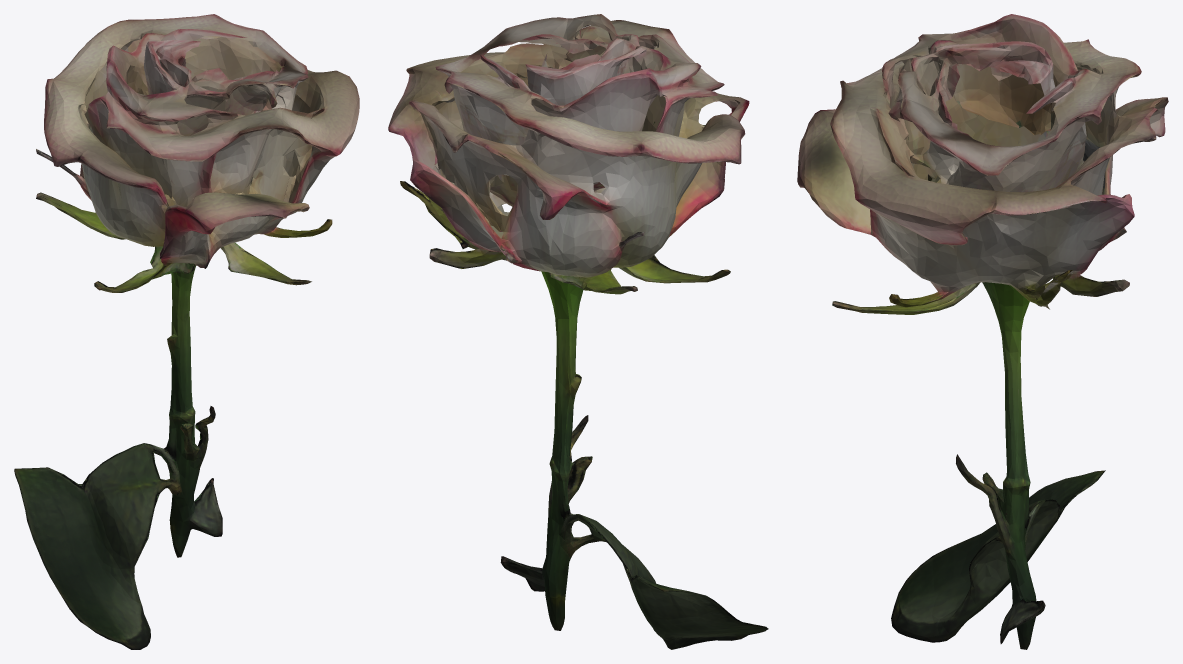
3 views of the same model, side by side, from view 1: azimuth 30°, elevation 25°; view 2: azimuth 150°, elevation 25°; view 3: azimuth 270°, elevation 25° (orthographic). The views are drawn at different scales.
Parts seen in each view (by area): view 1: world; view 2: world; view 3: world.
Part boxes in pixels (x1,y1,x2,y2): world: (14, 14, 359, 649); world: (388, 14, 768, 649); world: (797, 14, 1168, 649).
Bounding box in the file's own units: 0.5593 × 0.9667 × 0.5192.
1 material, 1 textured.
